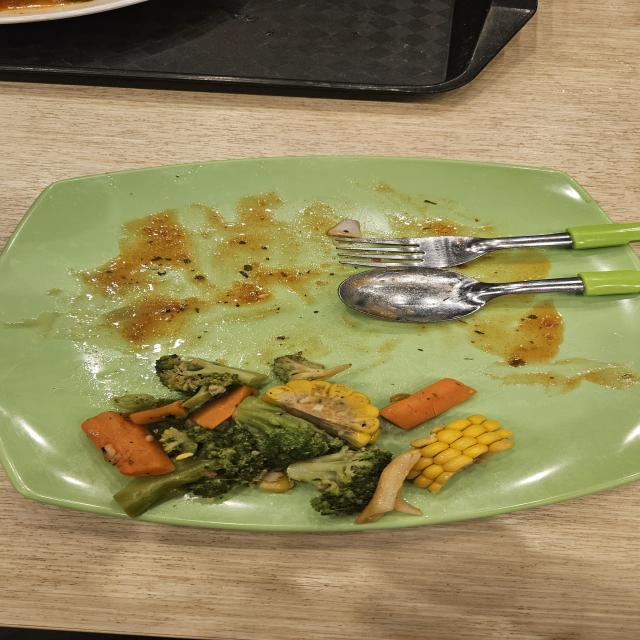Green veg: (115, 396, 392, 517), (155, 355, 267, 394), (273, 354, 351, 382), (111, 393, 174, 414)
Non green veg: (406, 415, 514, 493), (262, 380, 380, 448), (82, 412, 174, 476), (379, 378, 476, 430)
